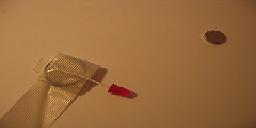LED: (93, 77, 139, 103)
